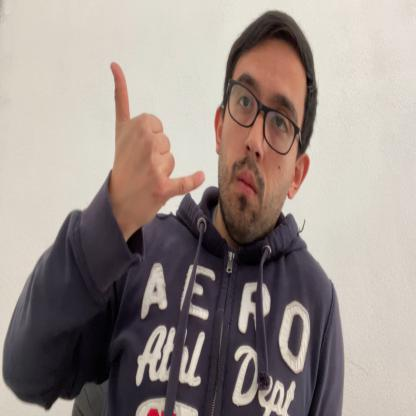Y: (110, 63, 205, 221)
